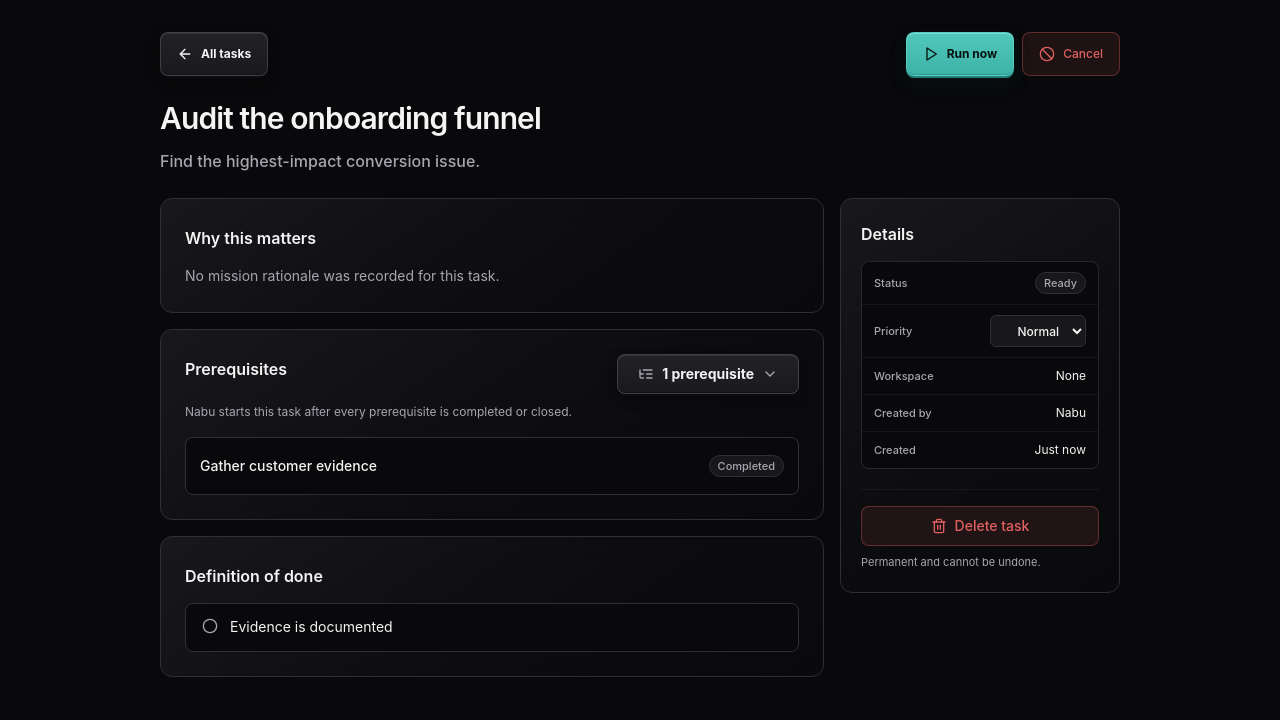
Test case: TaskDetailPage prerequisites › shows linked prerequisite state and excludes the task itself from editing
Expected: the heading "Prerequisites" is shown, [185, 358, 287, 380]
Click the button "1 prerequisite" at (708, 374), box [617, 354, 799, 394]
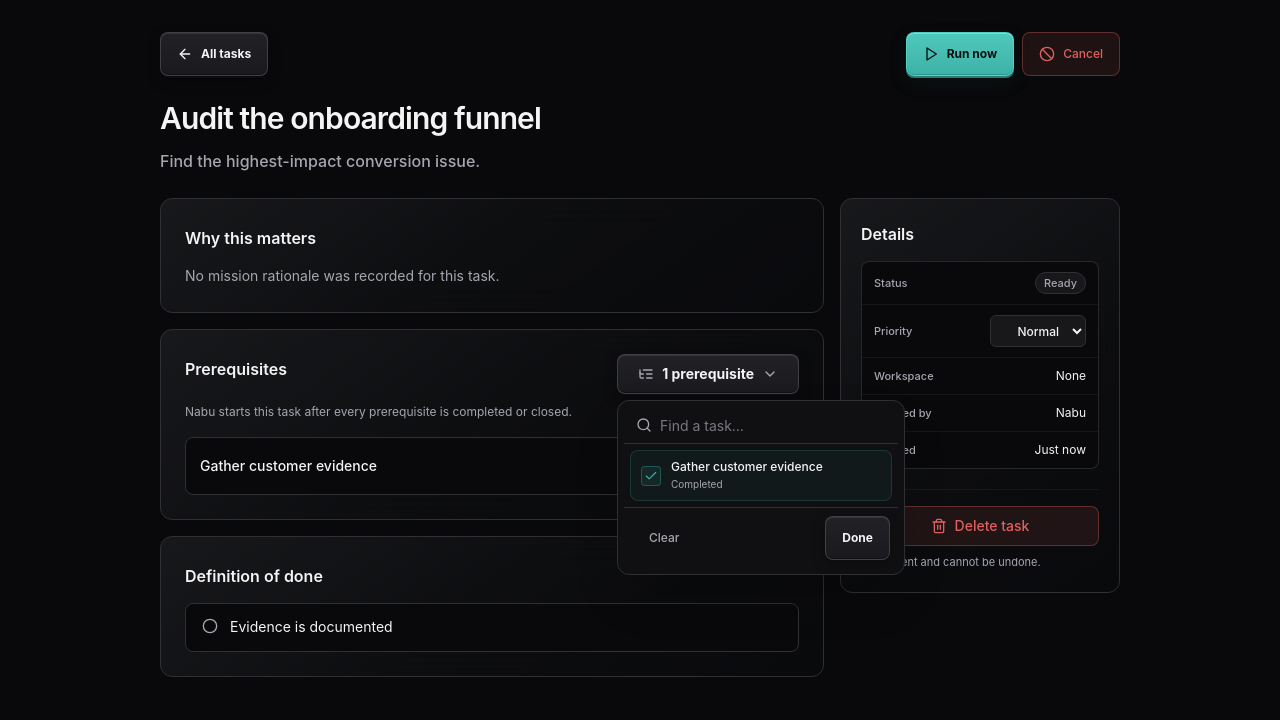
Expected: the checkbox labelled "Gather customer evidence completed" is checked, [630, 450, 892, 501]
